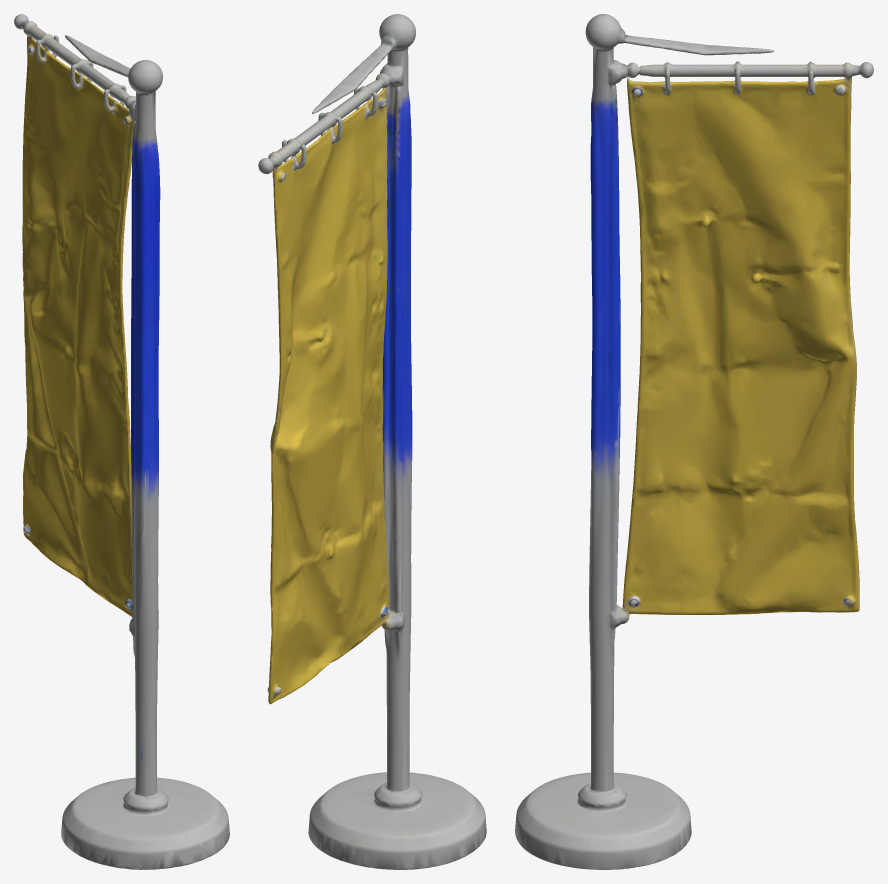
The model's file is plaza-flag-pole.glb.
3 renders of one model, left to right at view 1: azimuth 30°, elevation 25°; view 2: azimuth 150°, elevation 25°; view 3: azimuth 270°, elevation 25°, orthographic. The views are drawn at different scales.
Visible parts, largest first — view 1: tripo_node_3ca9eed5-ac22-4444-9ed1-e7c5de4889c5; view 2: tripo_node_3ca9eed5-ac22-4444-9ed1-e7c5de4889c5; view 3: tripo_node_3ca9eed5-ac22-4444-9ed1-e7c5de4889c5.
Part boxes in pixels (x1,y1,x2,y2): tripo_node_3ca9eed5-ac22-4444-9ed1-e7c5de4889c5: (14,14,229,869); tripo_node_3ca9eed5-ac22-4444-9ed1-e7c5de4889c5: (258,14,486,869); tripo_node_3ca9eed5-ac22-4444-9ed1-e7c5de4889c5: (515,14,873,869).
Bounding box in the file's own units: 1.18 × 6 × 2.39.
Materials: 1 (1 with a texture image).
